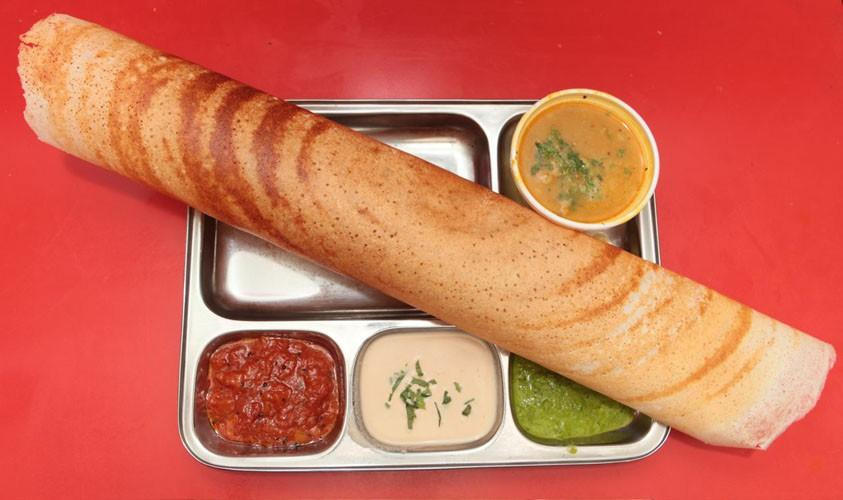CoconutChutney: (362, 334, 499, 448)
Dosa: (17, 14, 838, 449)
GreenChutney: (512, 353, 636, 441)
